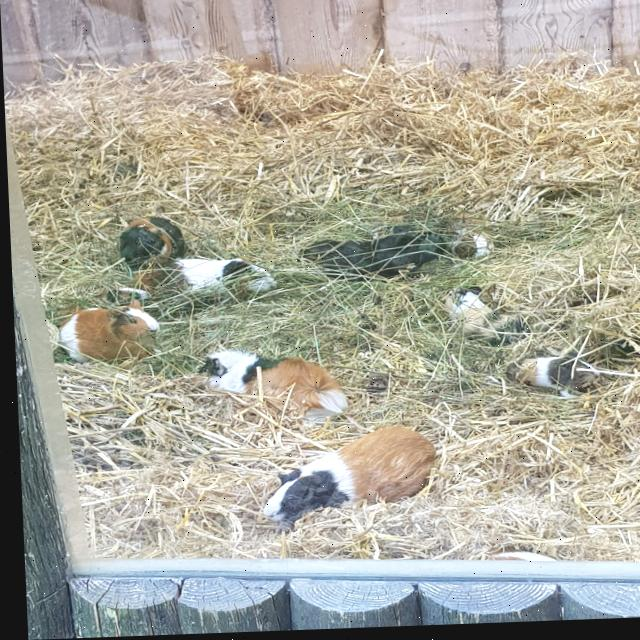guinea pig: (247, 421, 442, 530), (186, 348, 344, 429), (127, 254, 286, 306), (436, 284, 530, 353), (60, 304, 160, 367), (497, 351, 599, 407), (111, 214, 182, 271)
